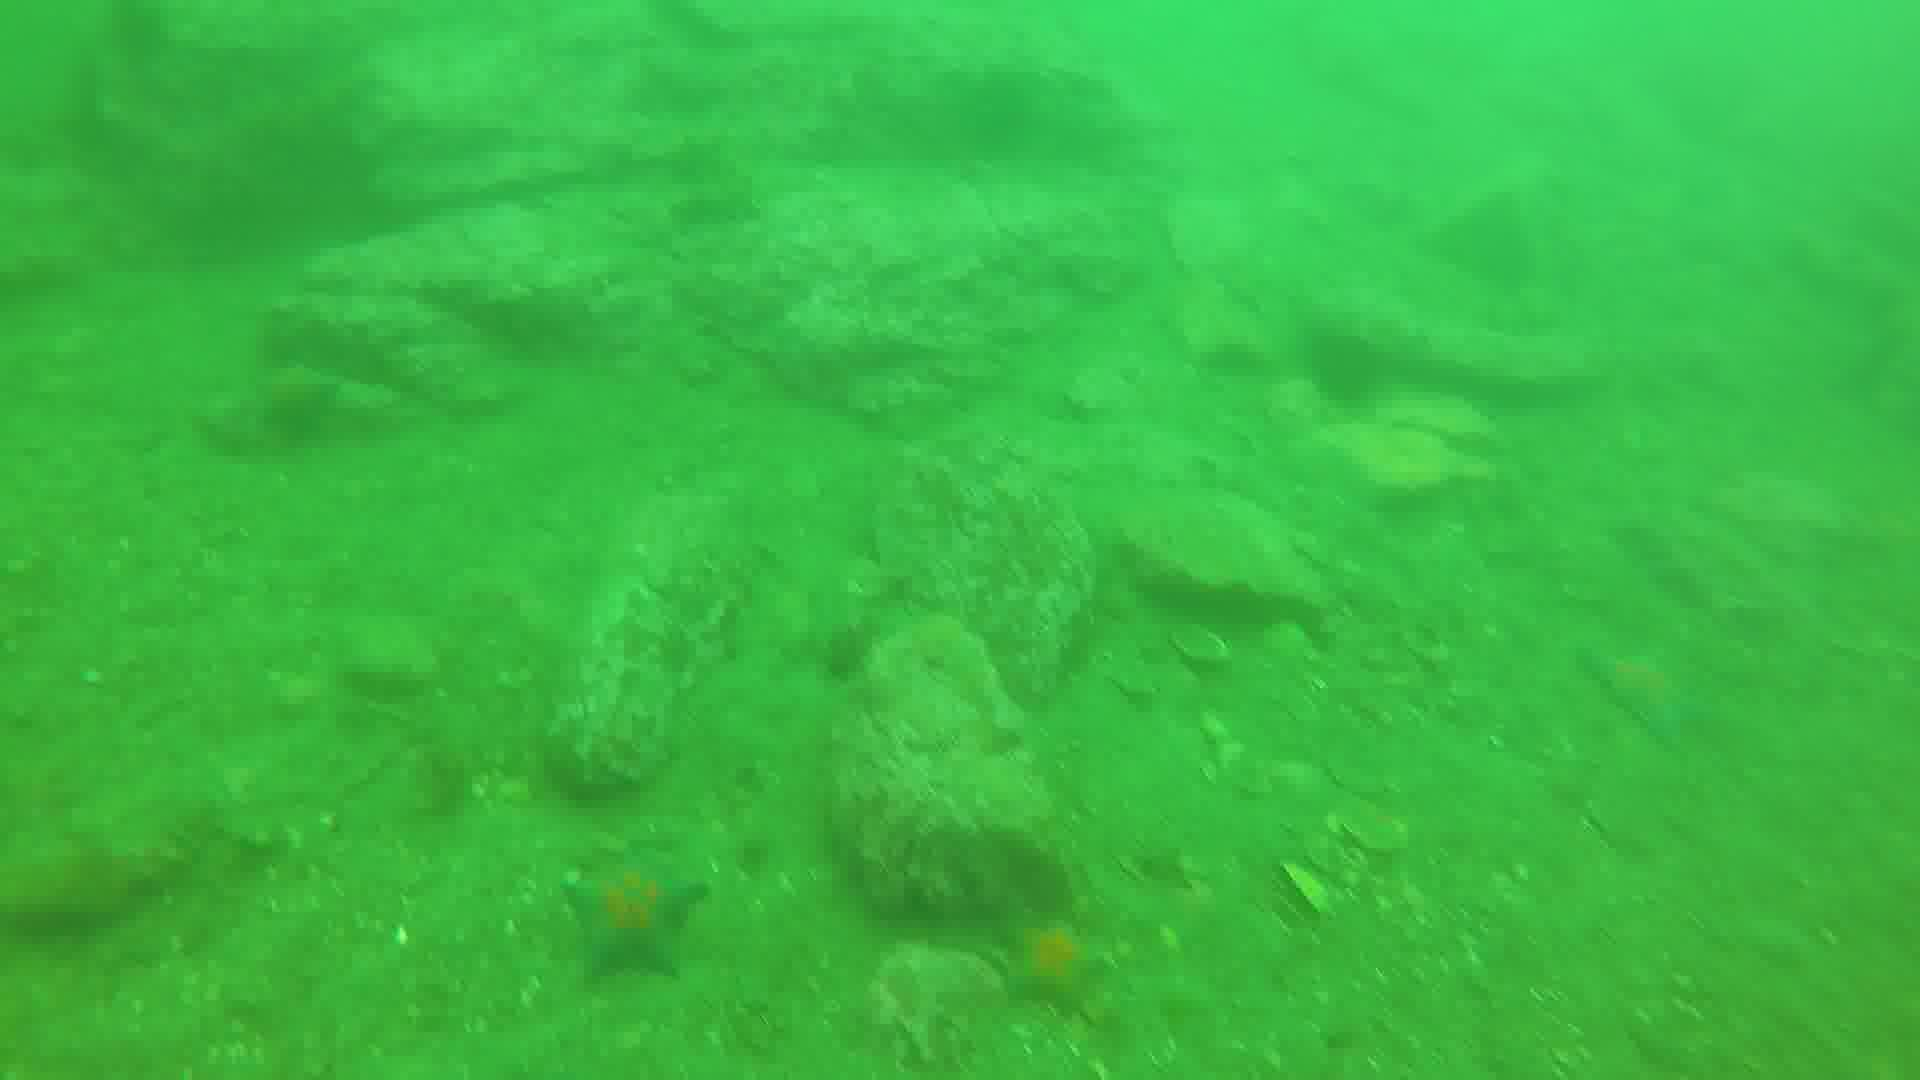starfish: (568, 839, 705, 977), (1575, 636, 1718, 748), (996, 899, 1110, 1015)
